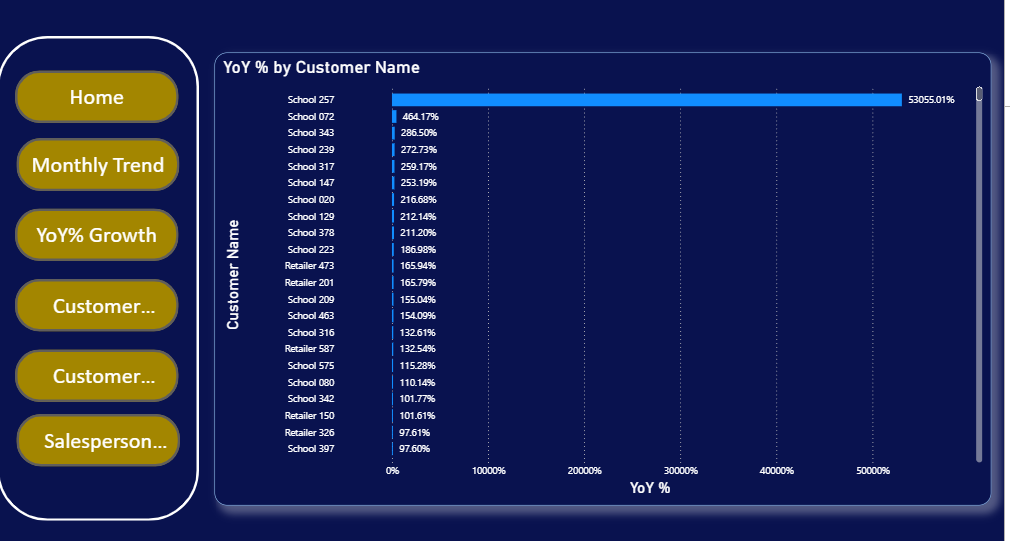

This screenshot's page, from the dashboard's own definition file:
{"tool":"powerbi","page":{"name":"YoY 24-25  and 25-26","canvas":[1280,720],"ordinal":3},"visuals":[{"type":"clusteredBarChart","fields":{"Category":["Customer Master.Customer Name"],"Y":["Sales Transactions.YoY %"]},"box":[285.4,88.8,978.9,570.7],"z":0},{"type":"shape","box":[12.3,68.2,254.5,610.8],"z":1},{"type":"actionButton","title":"Home","box":[36.6,197.3,205.2,66.8],"z":2},{"type":"actionButton","title":"Home","box":[34.1,111,206,66],"z":3},{"type":"actionButton","title":"Home","box":[34.1,285,206,66],"z":4},{"type":"actionButton","title":"Home","box":[34.1,375,206,66],"z":5},{"type":"actionButton","title":"Home","box":[34.1,463,206,66],"z":6},{"type":"actionButton","title":"Home","box":[36.1,545,206,66],"z":7}]}

Visuals, with their boxes on the page's 1280x720 design canvas (x1, y1, x2, y2). These are canvas units, not pixel positions in the 1010x541 screenshot, which may show the page scaled, cropped or inside an application window:
clusteredBarChart - Customer Master.Customer Name x Sales Transactions.YoY %: [left=285, top=89, right=1264, bottom=660]
shape: [left=12, top=68, right=267, bottom=679]
"Home" actionButton: [left=37, top=197, right=242, bottom=264]
"Home" actionButton: [left=34, top=111, right=240, bottom=177]
"Home" actionButton: [left=34, top=285, right=240, bottom=351]
"Home" actionButton: [left=34, top=375, right=240, bottom=441]
"Home" actionButton: [left=34, top=463, right=240, bottom=529]
"Home" actionButton: [left=36, top=545, right=242, bottom=611]
